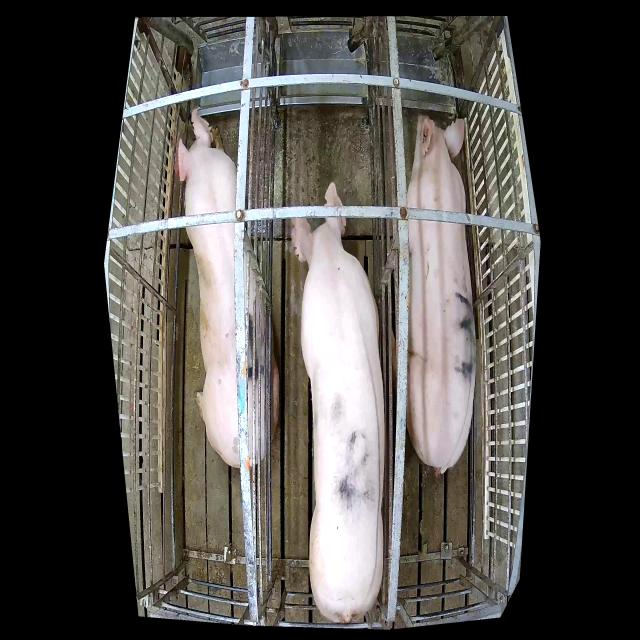pig: (291, 181, 385, 623), (174, 107, 279, 467), (406, 115, 476, 476)
